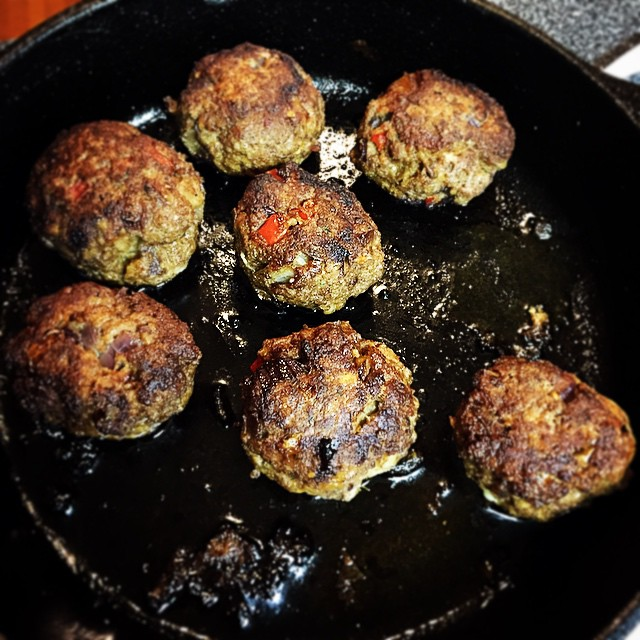meatballs: (37, 140, 182, 413), (258, 334, 416, 477), (466, 361, 619, 506), (358, 69, 516, 193), (240, 174, 384, 300), (185, 55, 322, 151)
